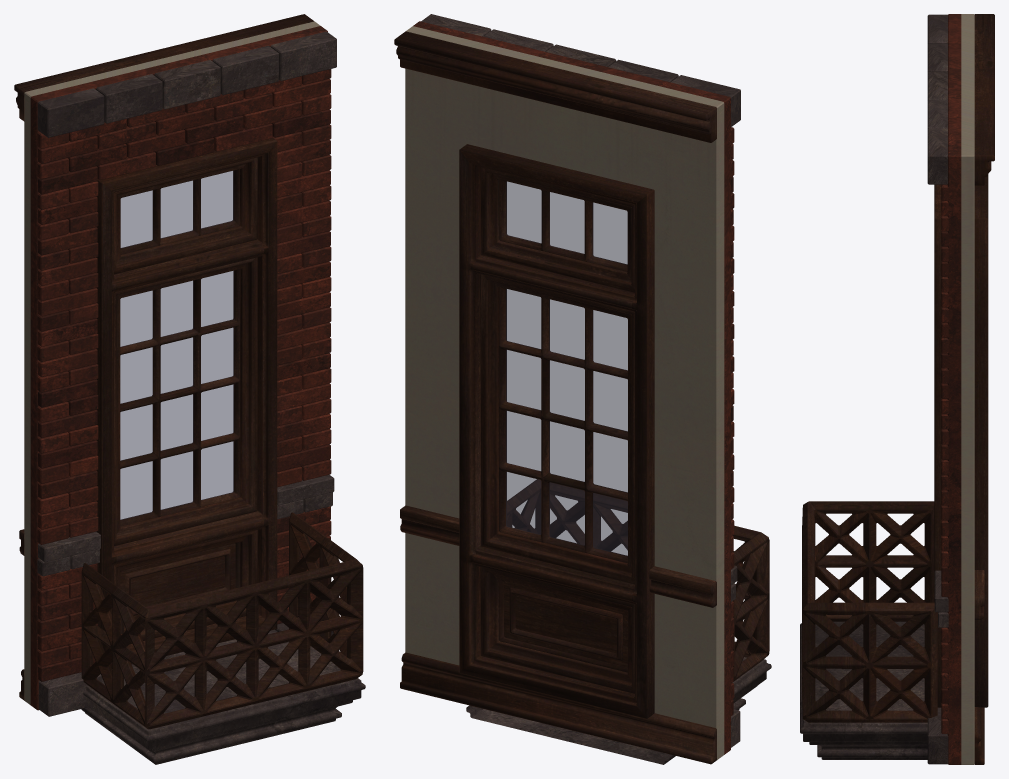
Rendered from SK1 WINDOW1 BALCONY.fbx.
3 views of the same model, side by side, from view 1: azimuth 30°, elevation 25°; view 2: azimuth 150°, elevation 25°; view 3: azimuth 270°, elevation 25° (orthographic). The views are drawn at different scales.
Visible parts, largest first — view 1: SK1 WINDOW1 BALCONY; view 2: SK1 WINDOW1 BALCONY; view 3: SK1 WINDOW1 BALCONY.
Part boxes in pixels (box(x1,y1,x2,y2)): SK1 WINDOW1 BALCONY: box(14, 14, 365, 764); SK1 WINDOW1 BALCONY: box(394, 14, 771, 764); SK1 WINDOW1 BALCONY: box(800, 14, 994, 764).
Bounding box in the file's own units: 200 × 414 × 116.
